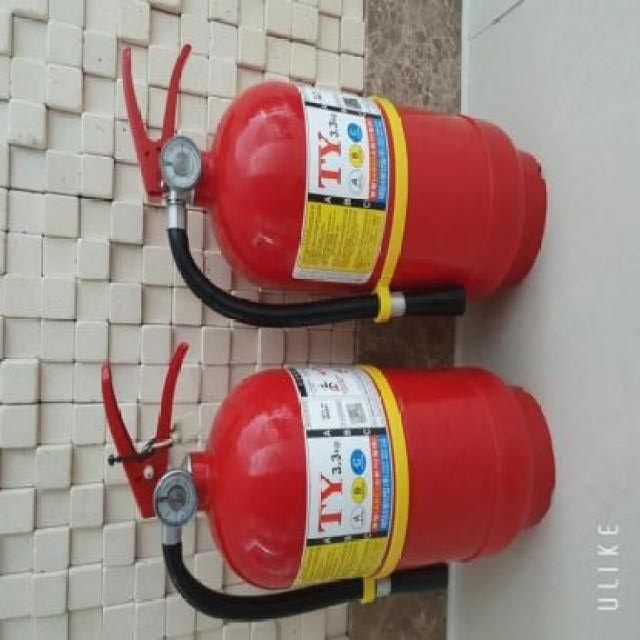fire extinguisher: (100, 340, 557, 623), (121, 46, 547, 329)
